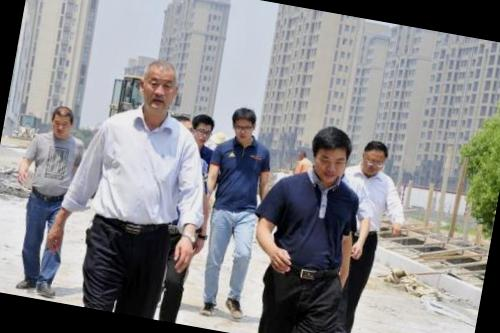no_helmet: (132, 54, 189, 118), (305, 122, 360, 182), (222, 101, 266, 146), (357, 134, 395, 180), (42, 101, 78, 140), (187, 108, 219, 144)
